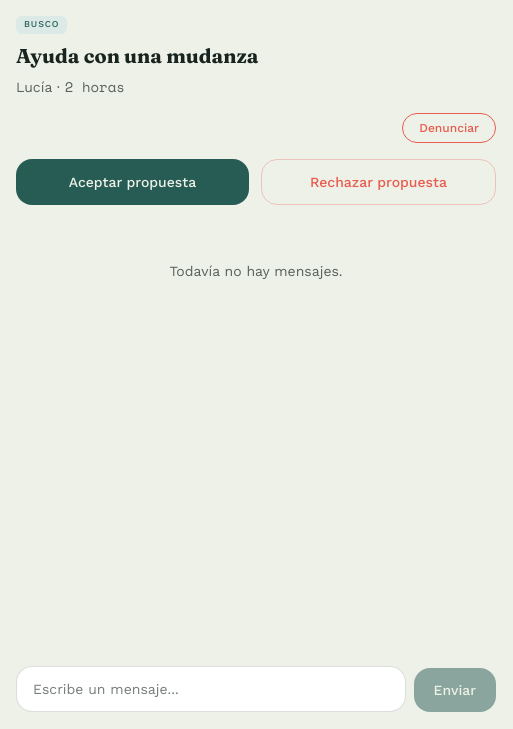
it: Aceptar o rechazar la propuesta desde el chat › avisa si no hay saldo suficiente y deja volver a intentarlo
The width and height of the screenshot is (513, 729).
What coordinates should you click on to do the following:
click the button "Aceptar propuesta"
I would click on:
 (132, 182)
Its box is x1=16 y1=159 x2=249 y2=205.
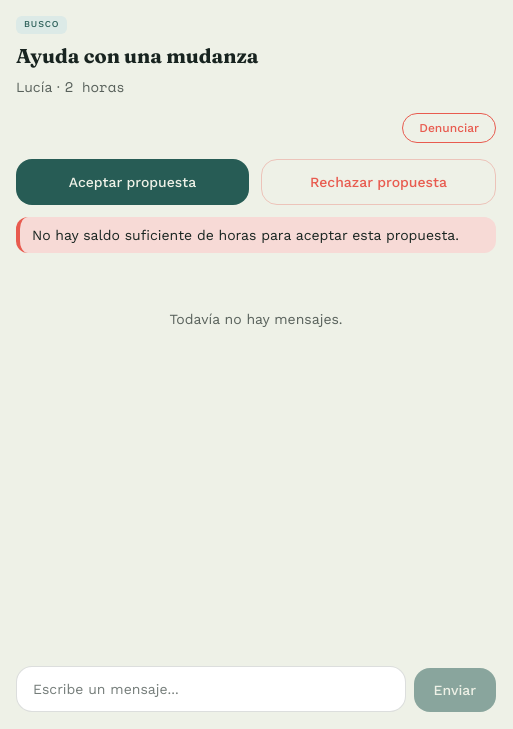
Check: the message shows "saldo", box x1=32 y1=227 x2=459 y2=243
